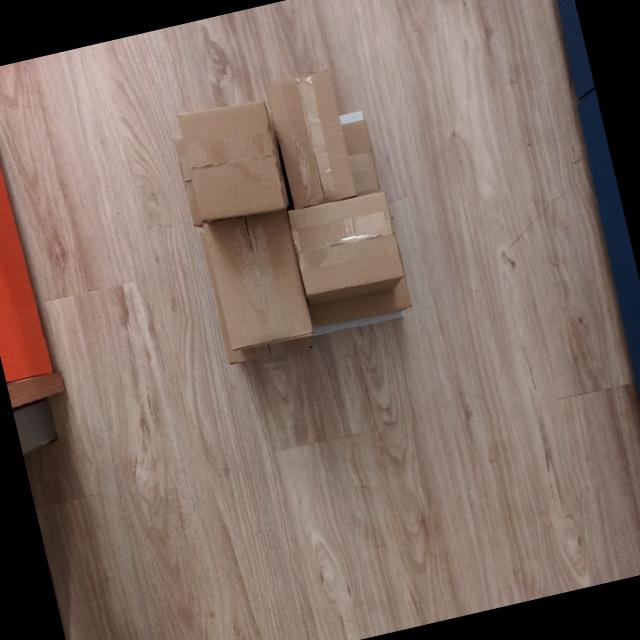box: (197, 204, 317, 358), (170, 90, 290, 230), (284, 184, 411, 310), (256, 61, 360, 213)
